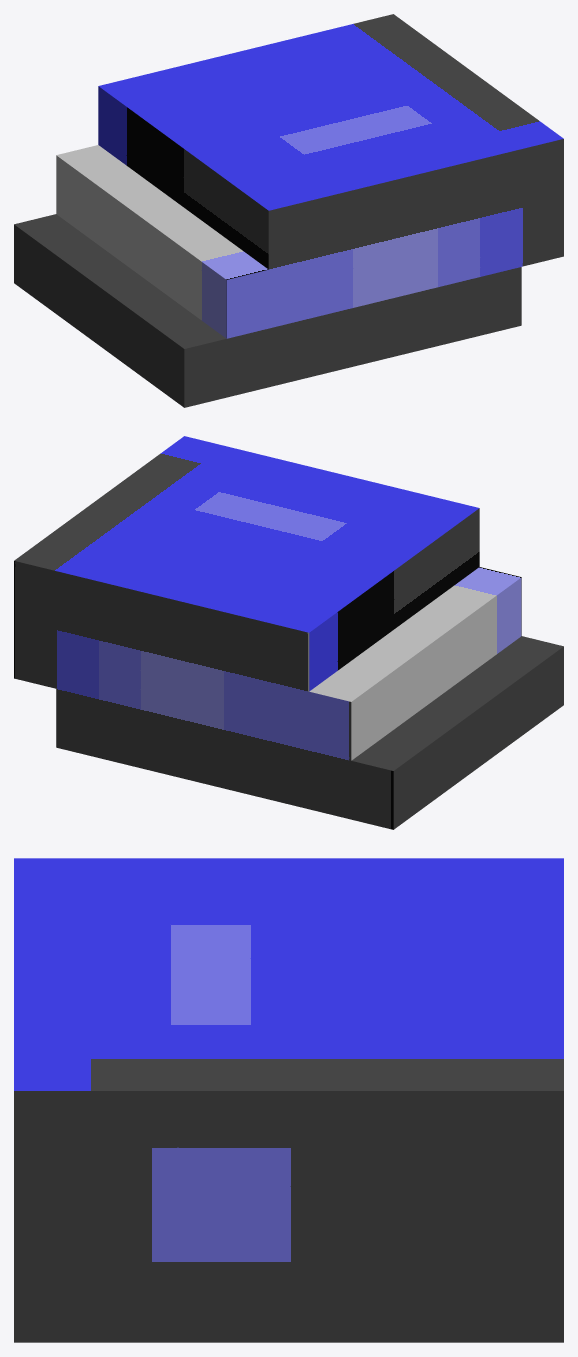
File: book_0x282_13.glb
The picture shows the model from 3 angles, top to bottom: view 1: azimuth 30°, elevation 25°; view 2: azimuth 150°, elevation 25°; view 3: azimuth 270°, elevation 25°; orthographic projection. The views are drawn at different scales.
Visible parts, largest first — view 1: Cube; view 2: Cube; view 3: Cube.
Boxes of the visible parts, box(x1,y1,x2,y2) form: Cube: box(14, 14, 563, 407); Cube: box(14, 436, 563, 829); Cube: box(14, 858, 563, 1342).
Bounding box in the file's own units: 0.5625 × 0.25 × 0.4375.
Materials: 1 (1 with a texture image).
